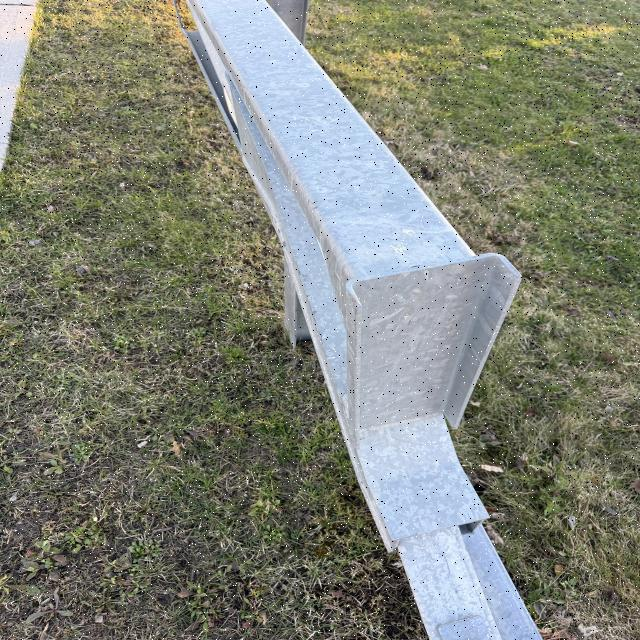Guard rail: (177, 6, 520, 606)
